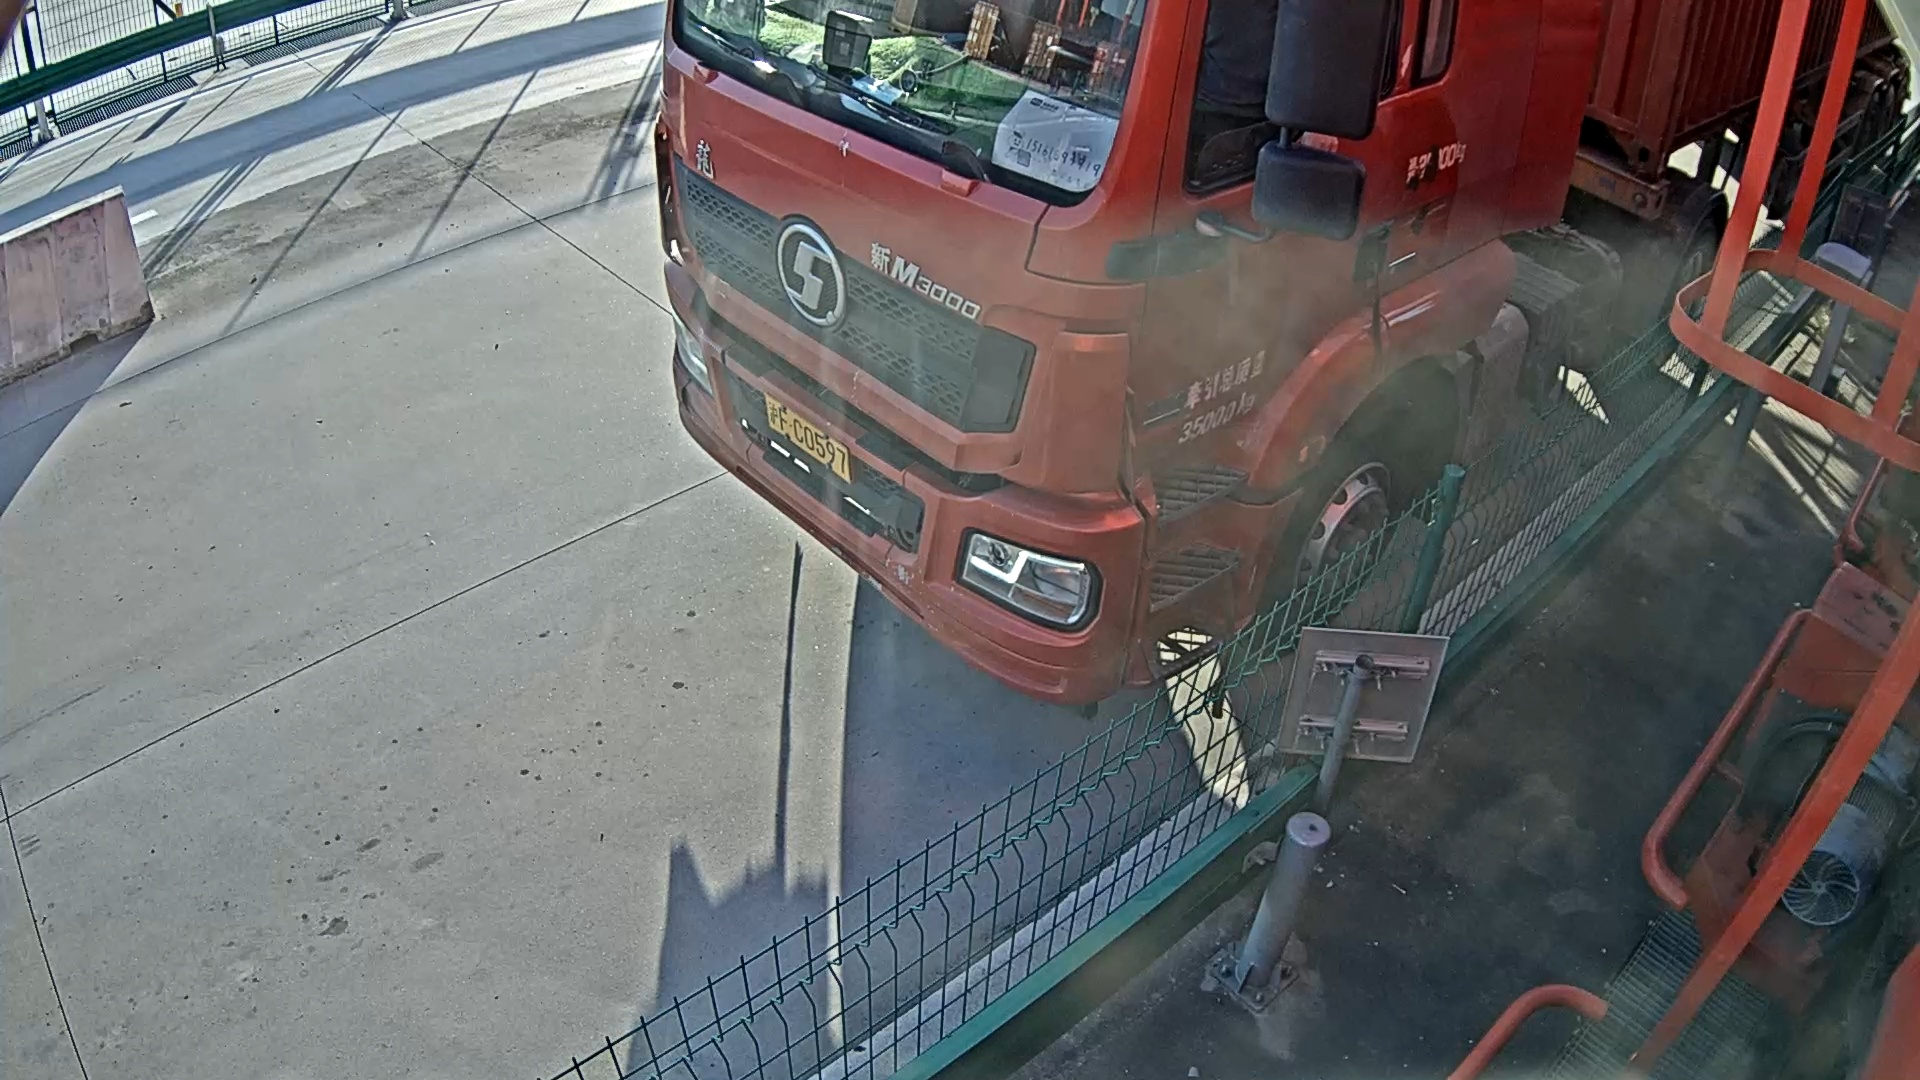head: (651, 18, 1295, 727)
plate: (754, 393, 860, 473)
